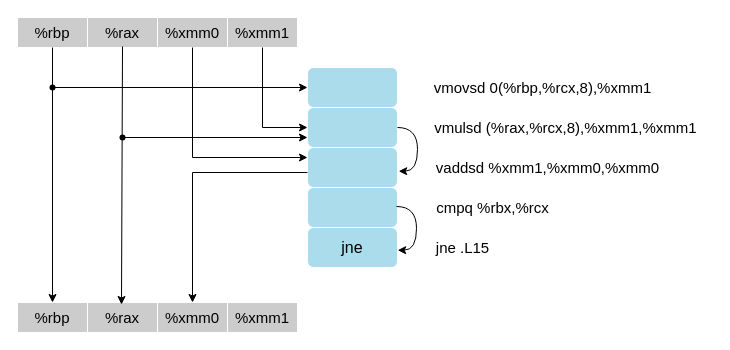
This 730x350 diagram has some shape labels left out. Here are the shapes that lost their labels. From the top down, the centre of each, then its label:
At (352,87): "load".
At (352,127): "mul".
At (352,167): "add".
At (352,207): "cmp".
